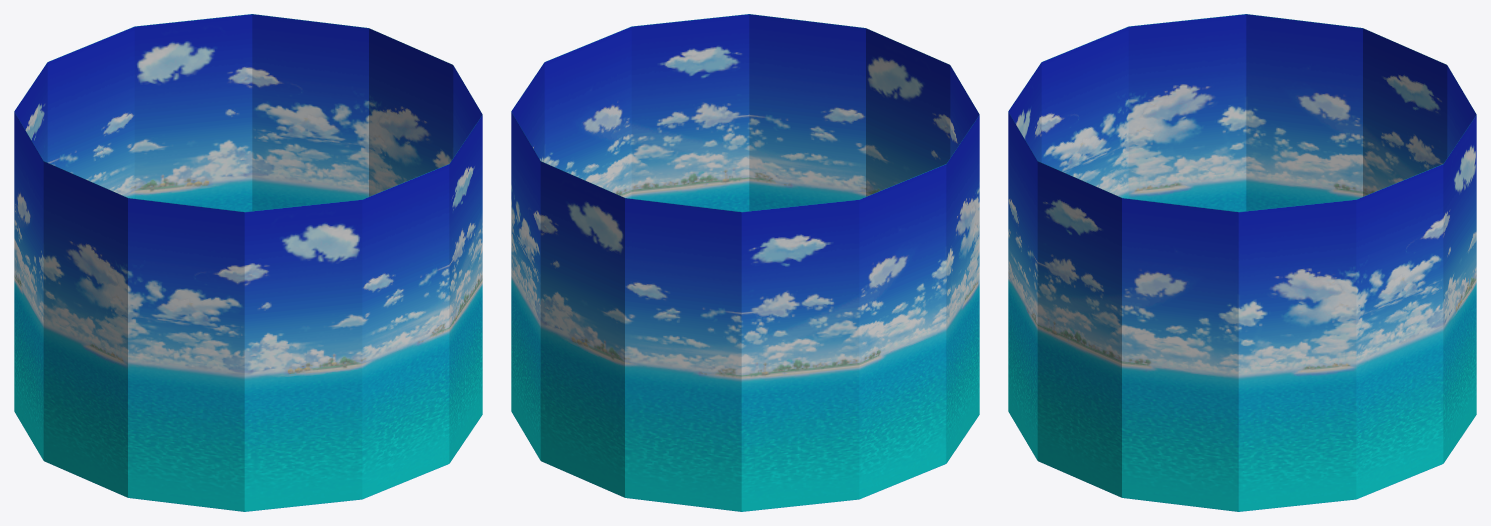
Rendered from blue_lagoon_2.glb.
3 renders of one model, left to right at view 1: azimuth 30°, elevation 25°; view 2: azimuth 150°, elevation 25°; view 3: azimuth 270°, elevation 25°, orthographic.
Visible parts, largest first — view 1: export; view 2: export; view 3: export.
Part boxes in pixels (x1=…): export: x1=14, y1=14, x2=482, y2=511; export: x1=511, y1=14, x2=979, y2=511; export: x1=1008, y1=14, x2=1476, y2=511.
Bounding box in the file's own units: 1714 × 1211 × 1714.
Materials: 56 (56 with a texture image).
